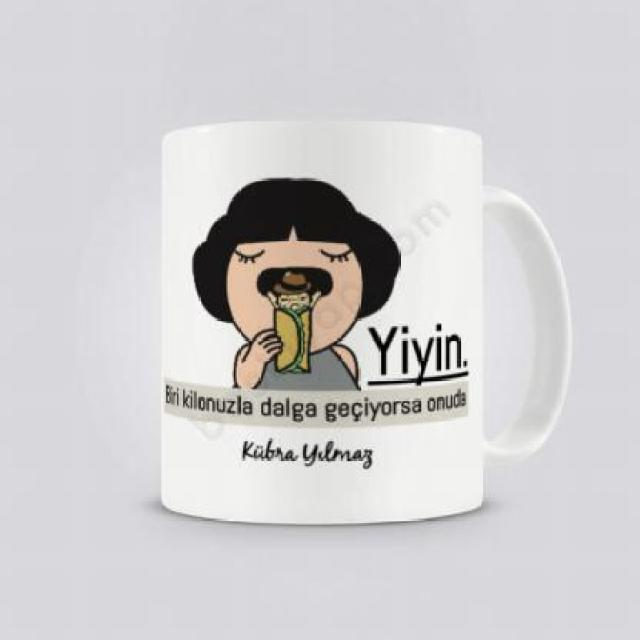taza: (155, 119, 576, 528)
